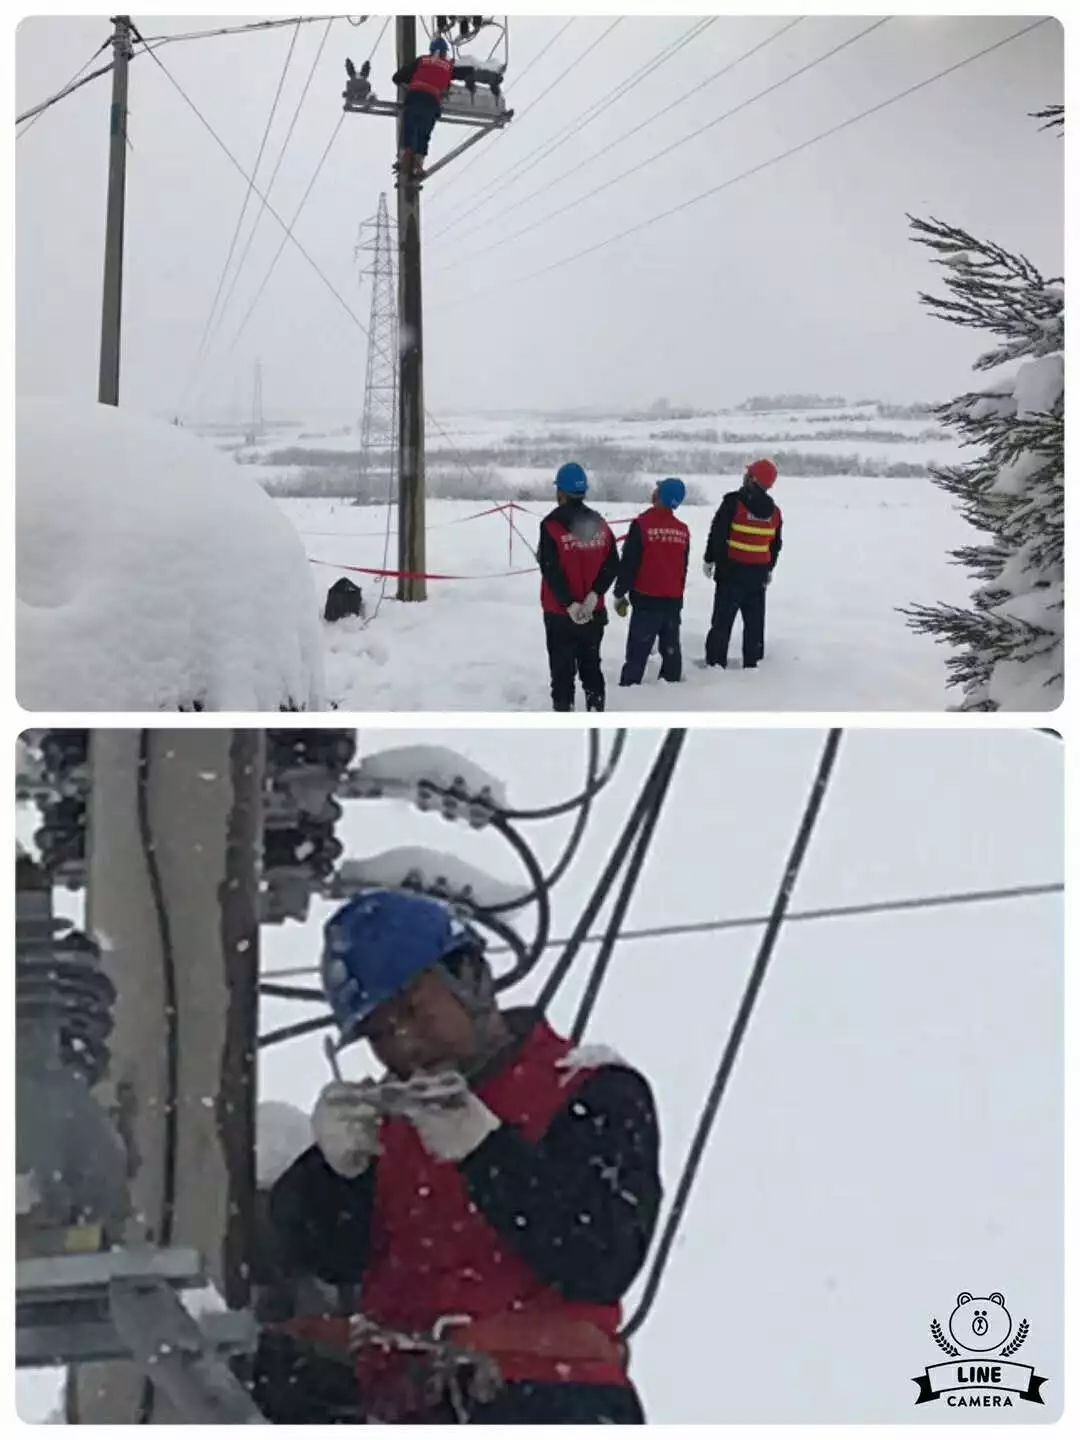blue: (317, 889, 503, 1093), (552, 458, 589, 507), (652, 475, 687, 511), (427, 35, 448, 59)
red: (743, 458, 778, 493)
